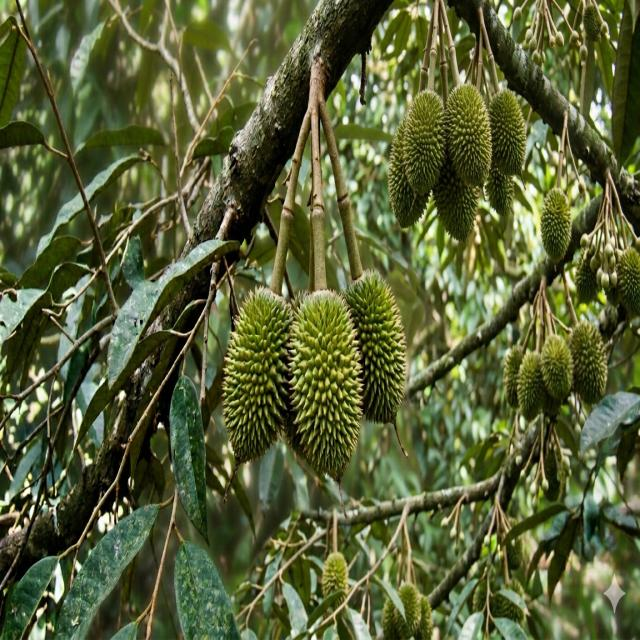immature: (284, 287, 364, 483), (221, 284, 294, 466), (341, 268, 408, 430), (442, 81, 492, 189), (398, 89, 445, 200), (434, 157, 482, 243), (387, 122, 424, 228), (487, 87, 528, 179), (569, 318, 609, 403), (540, 186, 572, 261), (539, 333, 573, 401), (515, 349, 547, 418), (484, 162, 516, 216), (616, 245, 640, 314), (397, 582, 424, 636), (322, 550, 349, 603), (503, 344, 525, 408), (574, 247, 598, 303), (491, 588, 525, 625), (382, 594, 406, 640), (505, 530, 526, 571), (472, 576, 490, 614)
